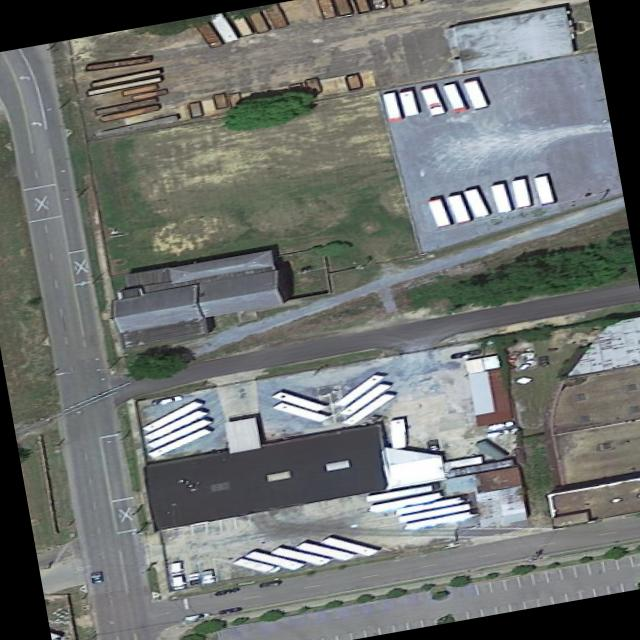large-vehicle: (141, 400, 206, 432), (144, 409, 209, 440), (146, 419, 214, 448), (146, 429, 212, 458), (333, 374, 387, 406), (343, 393, 398, 424), (339, 384, 393, 415), (399, 503, 471, 523), (371, 492, 443, 512), (405, 510, 473, 530), (271, 401, 331, 422), (395, 497, 463, 515), (245, 550, 306, 570), (294, 541, 357, 560), (321, 537, 379, 557), (272, 391, 327, 411), (271, 547, 331, 565), (368, 485, 434, 501), (464, 79, 491, 110), (420, 86, 446, 116), (234, 557, 282, 573), (464, 188, 490, 217), (489, 183, 514, 213), (443, 83, 468, 112), (447, 194, 472, 223), (383, 91, 403, 122), (429, 198, 450, 227), (534, 175, 555, 204), (512, 179, 533, 208), (390, 418, 408, 450), (399, 90, 420, 116)
small-vehicle: (152, 394, 185, 406), (487, 420, 516, 431), (452, 349, 481, 359), (213, 586, 241, 596), (184, 611, 211, 621), (200, 569, 218, 584), (486, 429, 511, 439), (171, 575, 188, 589), (219, 606, 244, 615), (517, 359, 537, 370), (505, 350, 523, 362), (170, 562, 184, 576), (187, 572, 202, 585), (90, 571, 104, 584), (427, 439, 441, 452), (261, 579, 281, 587), (538, 355, 550, 367)
